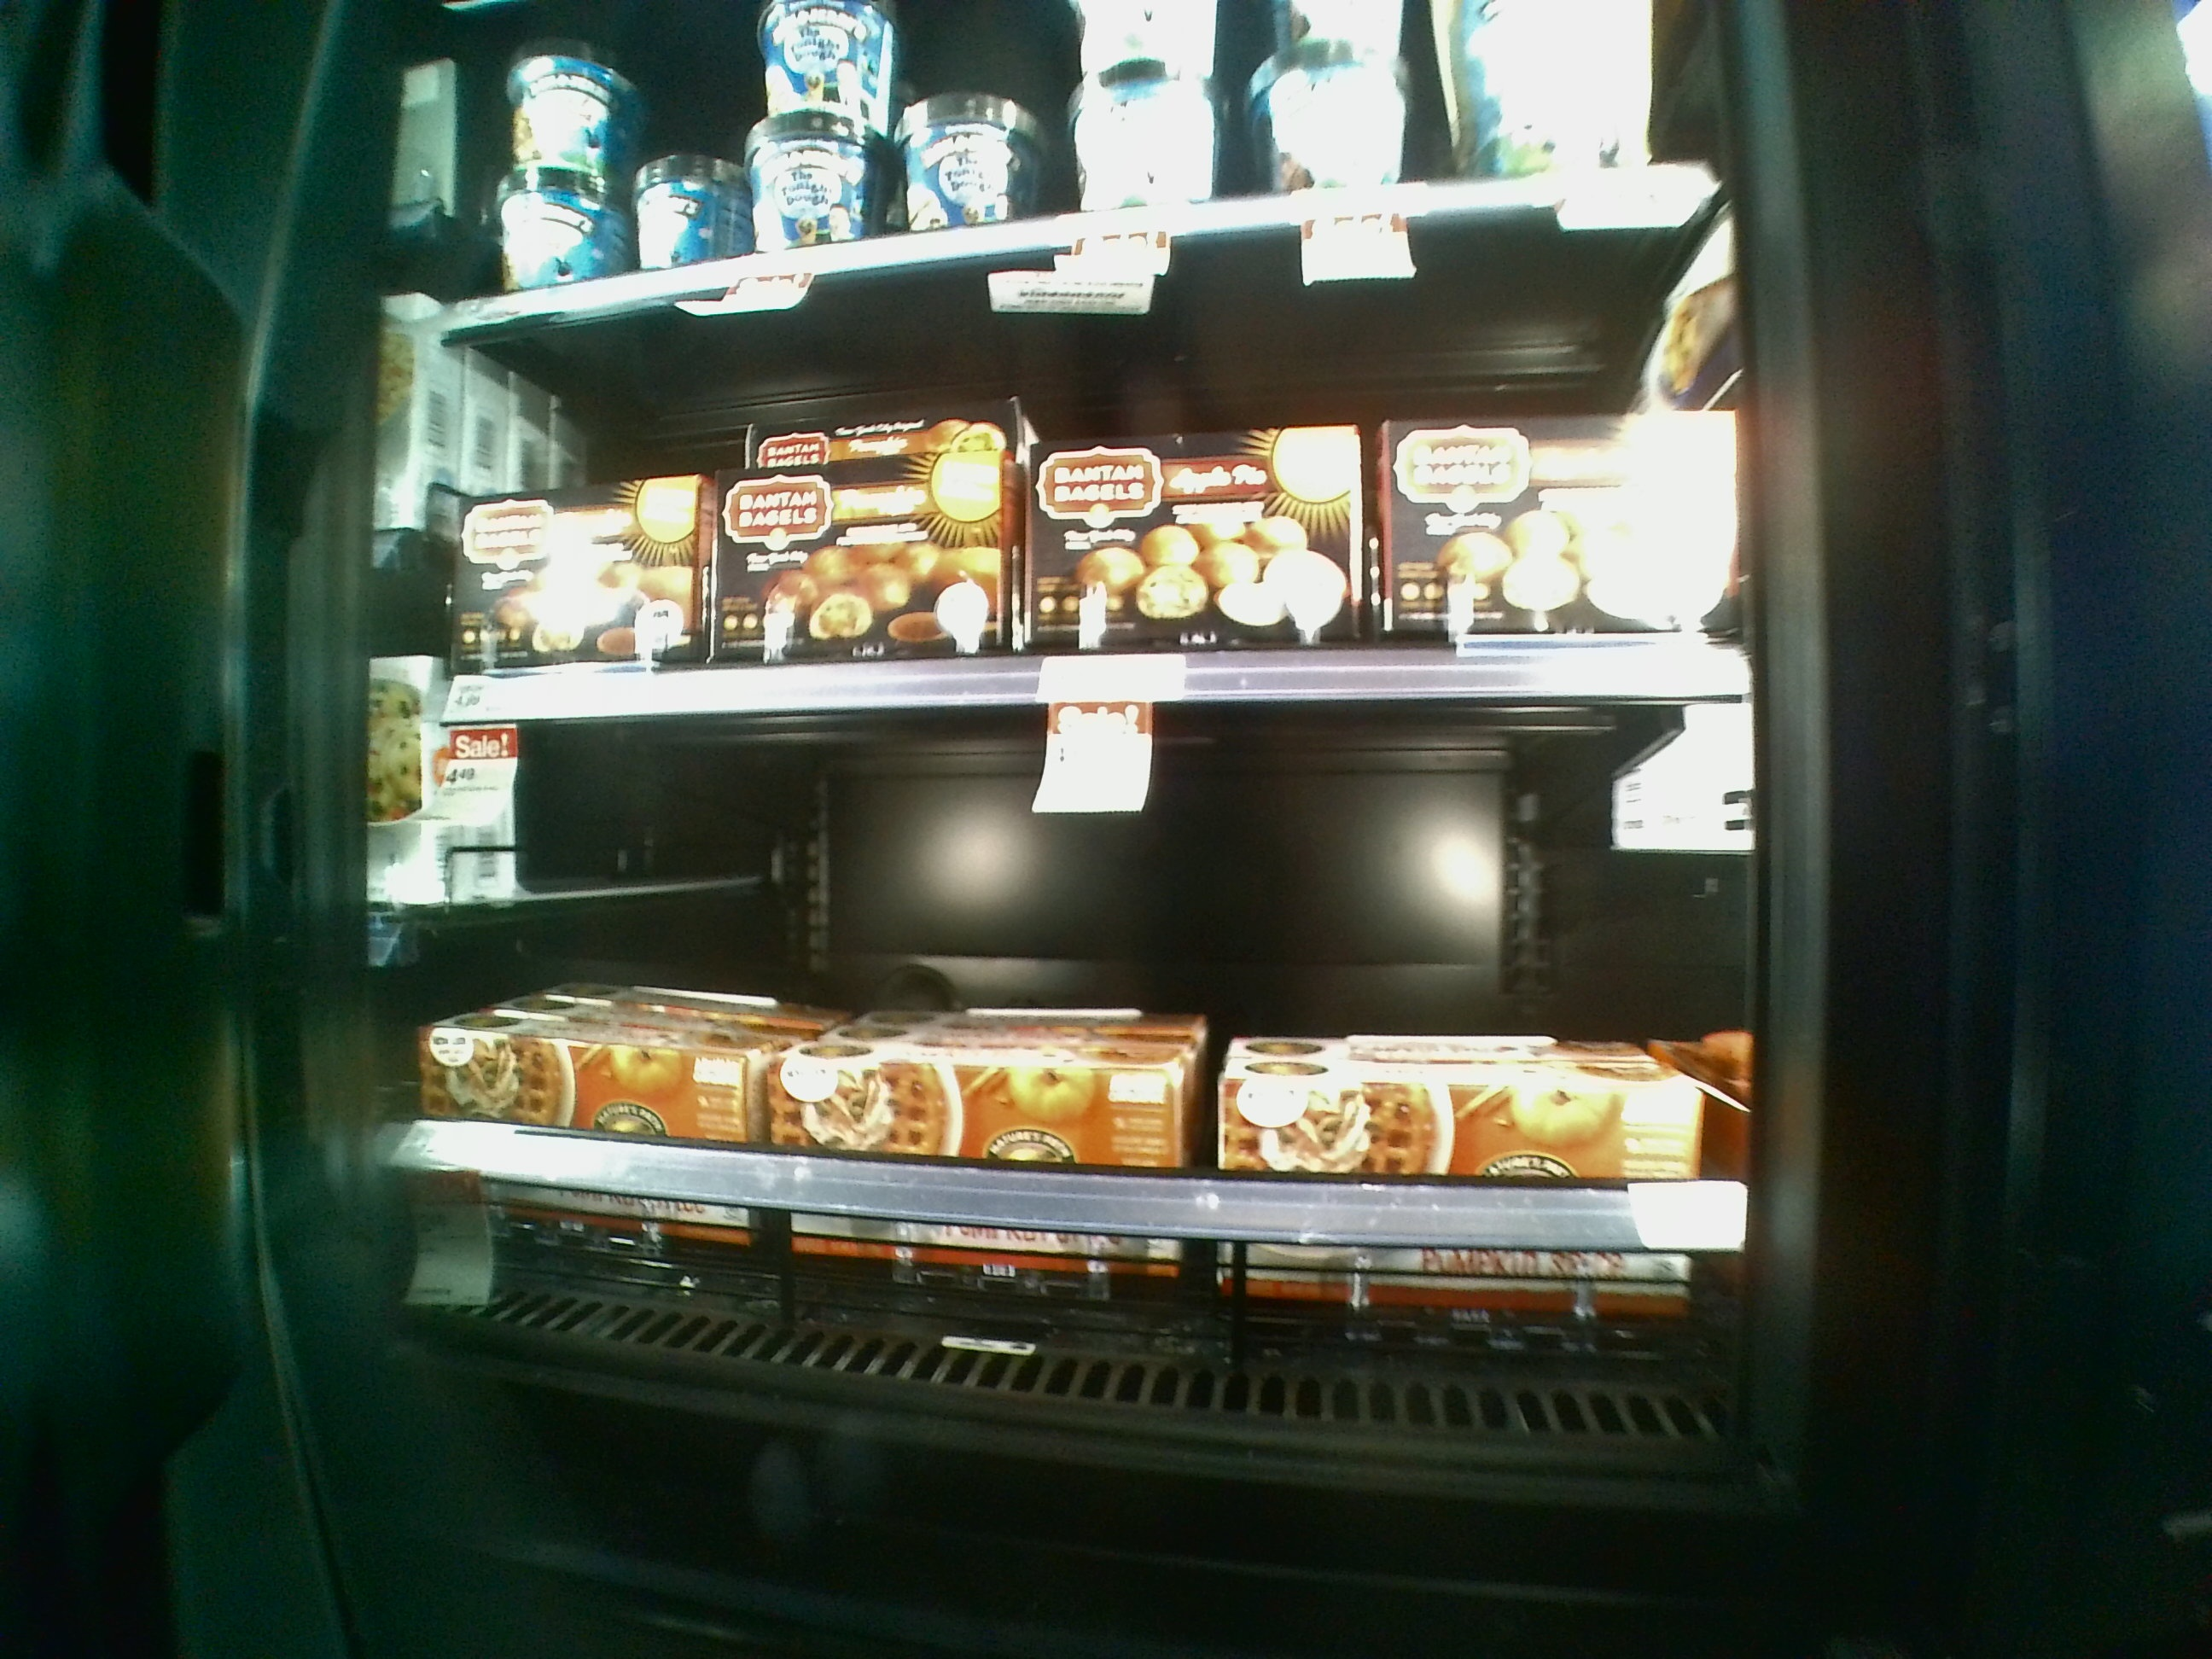shelf: (432, 655, 1724, 1452), (441, 246, 1700, 690)
